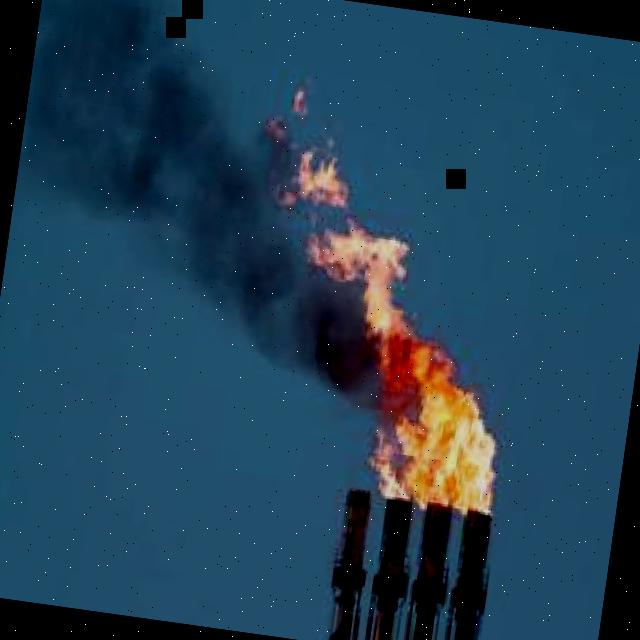fire: (306, 218, 496, 516), (265, 116, 348, 211), (291, 90, 307, 117)
smoke: (15, 30, 389, 427)
